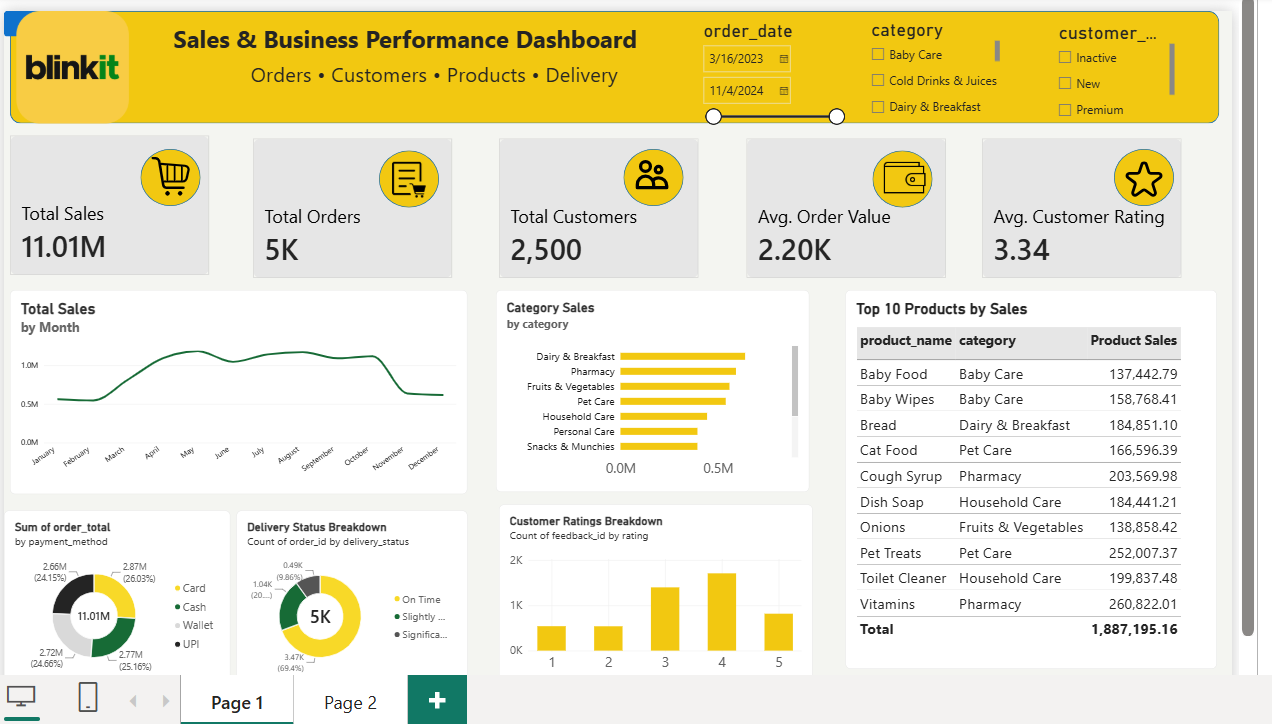

This screenshot's page, from the dashboard's own definition file:
{"tool":"powerbi","page":{"name":"Page 1","canvas":[1920,1080],"ordinal":0},"visuals":[{"type":"shape","box":[8.9,0,1891.2,175.7],"z":0},{"type":"textbox","box":[0,0,1015.9,194.7],"z":1000},{"type":"cardVisual","fields":{"Data":["public blinkit_customer_feedback.total sale"]},"box":[9.4,194.7,312,218],"z":2000},{"type":"cardVisual","fields":{"Data":["dashboard measures.total orders"]},"box":[389.5,199.4,312,218],"z":3000},{"type":"cardVisual","fields":{"Data":["dashboard measures.Total Customers Exact"]},"box":[774.3,199.4,312,218],"z":4000},{"type":"lineChart","fields":{"Category":["public blinkit_orders.order_date.Variation.Date Hierarchy.Month"],"Y":["public blinkit_customer_feedback.Total Sales"]},"box":[9.4,436.4,715.6,319.1],"z":5000},{"type":"clusteredBarChart","fields":{"Category":["public blinkit_products.category"],"Y":["dashboard measures.Category Sales"]},"box":[769.6,436.4,490,316.1],"z":6000},{"type":"donutChart","title":"Delivery Status Breakdown","fields":{"Category":["public blinkit_delivery_performance.delivery_status"],"Y":["CountNonNull(public blinkit_delivery_performance.order_id)"]},"box":[363.7,781.3,361.3,274.5],"z":7000},{"type":"tableEx","title":"Top 10 Products by Sales","fields":{"Values":["public blinkit_products.product_name","public blinkit_products.category","dashboard measures.Category Sales"]},"box":[1316.2,436.4,580.8,592.7],"z":8000},{"type":"actionButton","box":[0,0,100,40],"z":9000},{"type":"donutChart","fields":{"Category":["public blinkit_orders.payment_method"],"Y":["Sum(public blinkit_orders.order_total)"]},"box":[0,781.3,354.3,272.2],"z":10000},{"type":"clusteredColumnChart","title":"Customer Ratings Breakdown","fields":{"Category":["public blinkit_customer_feedback.rating"],"Y":["CountNonNull(public blinkit_customer_feedback.feedback_id)"]},"box":[774.3,771.9,490.4,283.9],"z":11000},{"type":"cardVisual","fields":{"Data":["dashboard measures.Avg. Customer Rating"]},"box":[1529.7,199.4,312,218],"z":12000},{"type":"cardVisual","fields":{"Data":["dashboard measures.Avg. Order Value"]},"box":[1161.4,199.4,312,218],"z":13000},{"type":"shape","box":[213.5,215.9,93.8,89.2],"z":14000},{"type":"image","box":[227.6,227.6,65.7,61],"z":15000},{"type":"shape","box":[969,215.9,93.8,89.2],"z":16000},{"type":"shape","box":[586.6,218.2,93.8,89.2],"z":17000},{"type":"shape","box":[1358.5,218.2,93.8,89.2],"z":18000},{"type":"image","box":[605.3,225.2,56.3,77.4],"z":19000},{"type":"image","box":[964.3,225.2,98.5,61],"z":20000},{"type":"shape","box":[1736.2,215.9,93.8,89.2],"z":21000},{"type":"image","box":[1747.9,218.2,70.4,89.2],"z":22000},{"type":"image","box":[1365.5,227.6,86.8,65.7],"z":23000},{"type":"image","box":[0,0,214.4,175.7],"z":24000},{"type":"slicer","fields":{"Values":["public blinkit_orders.order_date"]},"box":[1087.1,14.9,232.3,220.4],"z":25000},{"type":"slicer","fields":{"Values":["public blinkit_products.category"]},"box":[1349.2,11.9,208.5,154.9],"z":26000},{"type":"slicer","fields":{"Values":["public blinkit_customers.customer_segment"]},"box":[1641.5,17.2,188.7,149.5],"z":27000}]}

Visuals, with their boxes on the page's 1920x1080 design canvas (x1, y1, x2, y2). These are canvas units, not pixel positions in the 1272x724 screenshot, which may show the page scaled, cropped or inside an application window:
shape: BBox(9, 0, 1900, 176)
textbox: BBox(0, 0, 1016, 195)
cardVisual - public blinkit_customer_feedback.total sale: BBox(9, 195, 321, 413)
cardVisual - dashboard measures.total orders: BBox(390, 199, 702, 417)
cardVisual - dashboard measures.Total Customers Exact: BBox(774, 199, 1086, 417)
lineChart - public blinkit_orders.order_date.Variation.Date Hierarchy.Month x public blinkit_customer_feedback.Total Sales: BBox(9, 436, 725, 756)
clusteredBarChart - public blinkit_products.category x dashboard measures.Category Sales: BBox(770, 436, 1260, 752)
"Delivery Status Breakdown" donutChart: BBox(364, 781, 725, 1056)
"Top 10 Products by Sales" tableEx: BBox(1316, 436, 1897, 1029)
actionButton: BBox(0, 0, 100, 40)
donutChart - public blinkit_orders.payment_method x Sum(public blinkit_orders.order_total): BBox(0, 781, 354, 1054)
"Customer Ratings Breakdown" clusteredColumnChart: BBox(774, 772, 1265, 1056)
cardVisual - dashboard measures.Avg. Customer Rating: BBox(1530, 199, 1842, 417)
cardVisual - dashboard measures.Avg. Order Value: BBox(1161, 199, 1473, 417)
shape: BBox(214, 216, 307, 305)
image: BBox(228, 228, 293, 289)
shape: BBox(969, 216, 1063, 305)
shape: BBox(587, 218, 680, 307)
shape: BBox(1358, 218, 1452, 307)
image: BBox(605, 225, 662, 303)
image: BBox(964, 225, 1063, 286)
shape: BBox(1736, 216, 1830, 305)
image: BBox(1748, 218, 1818, 307)
image: BBox(1366, 228, 1452, 293)
image: BBox(0, 0, 214, 176)
slicer - public blinkit_orders.order_date: BBox(1087, 15, 1319, 235)
slicer - public blinkit_products.category: BBox(1349, 12, 1558, 167)
slicer - public blinkit_customers.customer_segment: BBox(1642, 17, 1830, 167)
